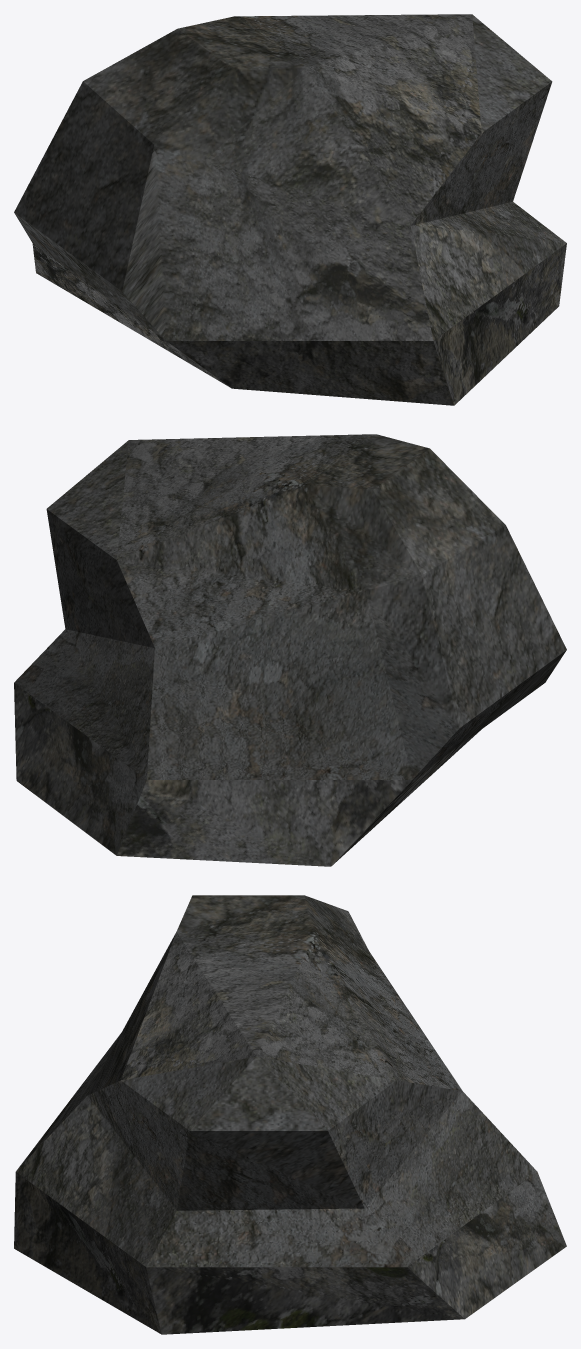
Rendered from Rock_8.fbx.
3 views of the same model, one above another, from view 1: azimuth 30°, elevation 25°; view 2: azimuth 150°, elevation 25°; view 3: azimuth 270°, elevation 25° (orthographic). The views are drawn at different scales.
Parts seen in each view (by area): view 1: Rock_8; view 2: Rock_8; view 3: Rock_8.
Part boxes in pixels (x1,y1,x2,y2): Rock_8: (14,14,566,405); Rock_8: (14,434,566,866); Rock_8: (14,895,566,1334).
Bounding box in the file's own units: 136 × 98.98 × 151.
